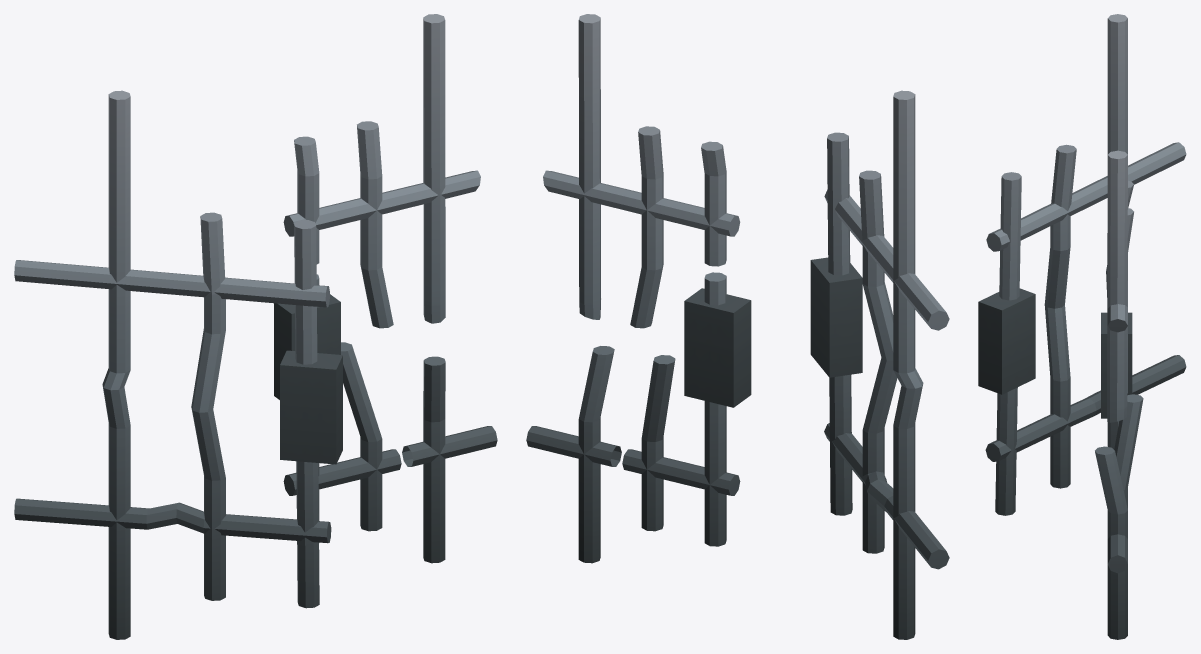
The model's file is Rejas.fbx.
3 views of the same model, side by side, from view 1: azimuth 30°, elevation 25°; view 2: azimuth 150°, elevation 25°; view 3: azimuth 270°, elevation 25° (orthographic). The views are drawn at different scales.
Parts seen in each view (by area): view 1: Cube.005; view 2: Cube.005; view 3: Cube.005.
Boxes of the visible parts, x1,y1,x2,y2 form: Cube.005: (14,14,497,639); Cube.005: (526,14,949,639); Cube.005: (978,14,1186,639).
Bounding box in the file's own units: 712 × 820 × 322.
